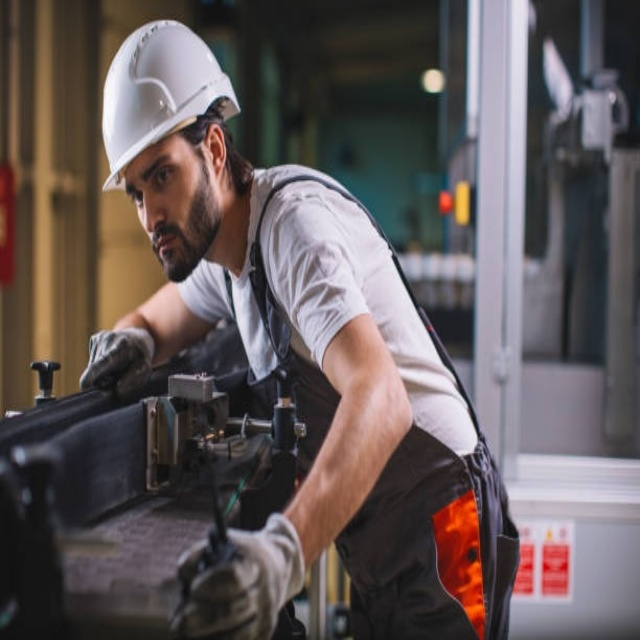Guantes: (175, 511, 307, 639), (79, 326, 156, 398)
Sin_gafas: (124, 143, 179, 213)
Sin_mascara: (145, 226, 188, 276)
